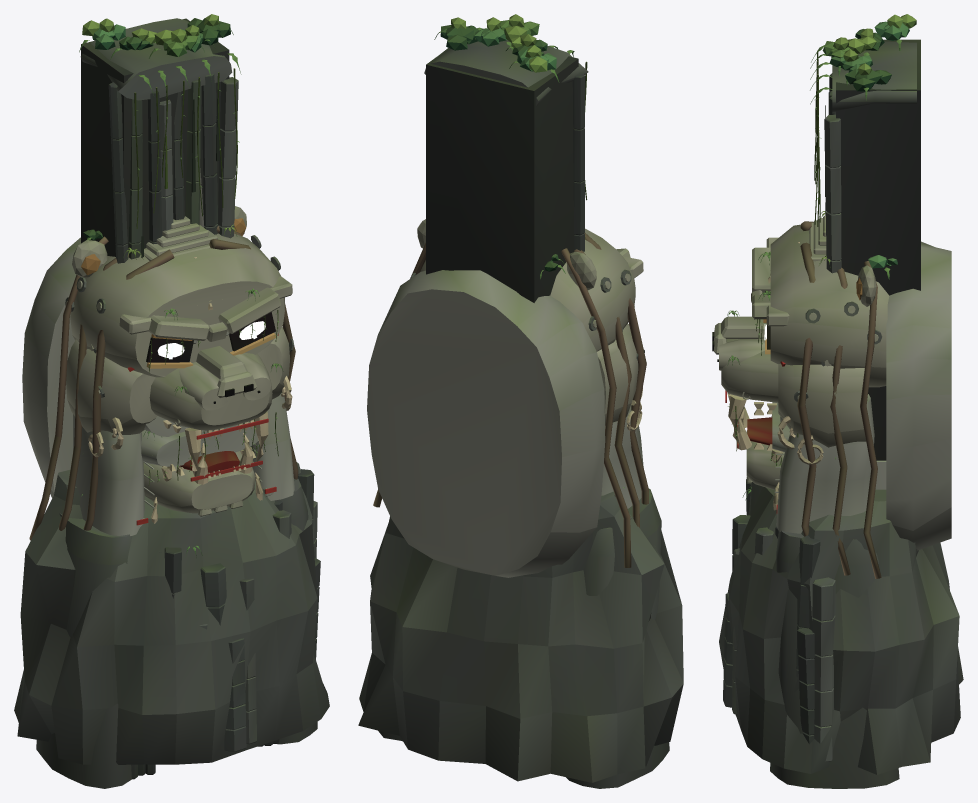
File: wildheart_basin_kit.glb
The picture shows the model from 3 angles, left to right: view 1: azimuth 30°, elevation 25°; view 2: azimuth 150°, elevation 25°; view 3: azimuth 270°, elevation 25°; orthographic projection. The views are drawn at different scales.
Parts seen in each view (by area): view 1: Kit_JaguarHead, Kit_BasaltCliff, Kit_IdolMaw, Kit_JaguarEyes; view 2: Kit_JaguarHead, Kit_IdolMaw, Kit_BasaltCliff; view 3: Kit_JaguarHead, Kit_IdolMaw, Kit_BasaltCliff.
Boxes of the visible parts, bbox=[...] form: Kit_JaguarHead: bbox=[14, 206, 329, 764]; Kit_BasaltCliff: bbox=[79, 14, 241, 263]; Kit_IdolMaw: bbox=[22, 237, 317, 788]; Kit_JaguarEyes: bbox=[157, 321, 265, 359]; Kit_JaguarHead: bbox=[358, 219, 683, 782]; Kit_IdolMaw: bbox=[367, 270, 669, 788]; Kit_BasaltCliff: bbox=[424, 14, 588, 302]; Kit_JaguarHead: bbox=[712, 211, 963, 774]; Kit_IdolMaw: bbox=[770, 241, 951, 788]; Kit_BasaltCliff: bbox=[810, 14, 920, 460].
Size of the model in its own units: 84.05 by 199 by 65.19.
